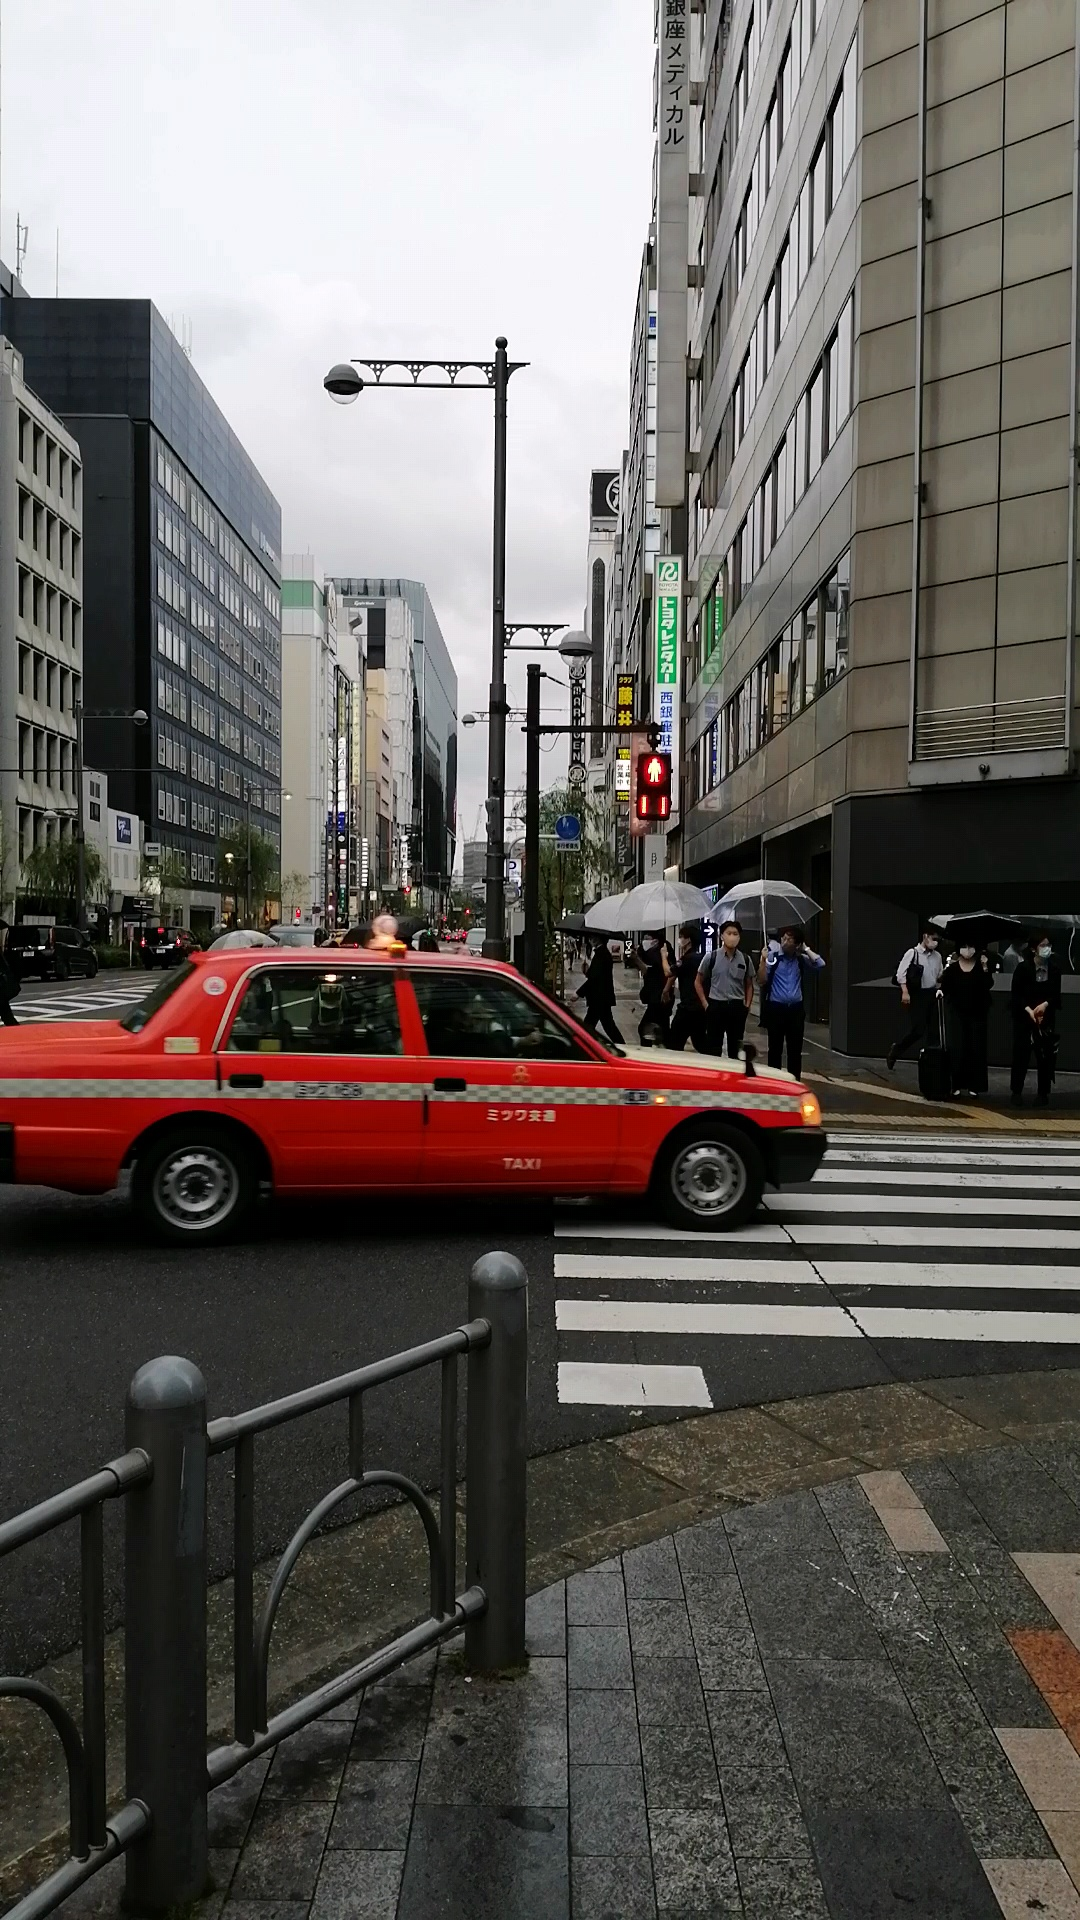red: (636, 752, 671, 820)
